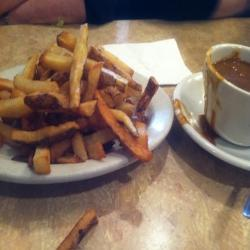fries: (3, 26, 165, 175)
